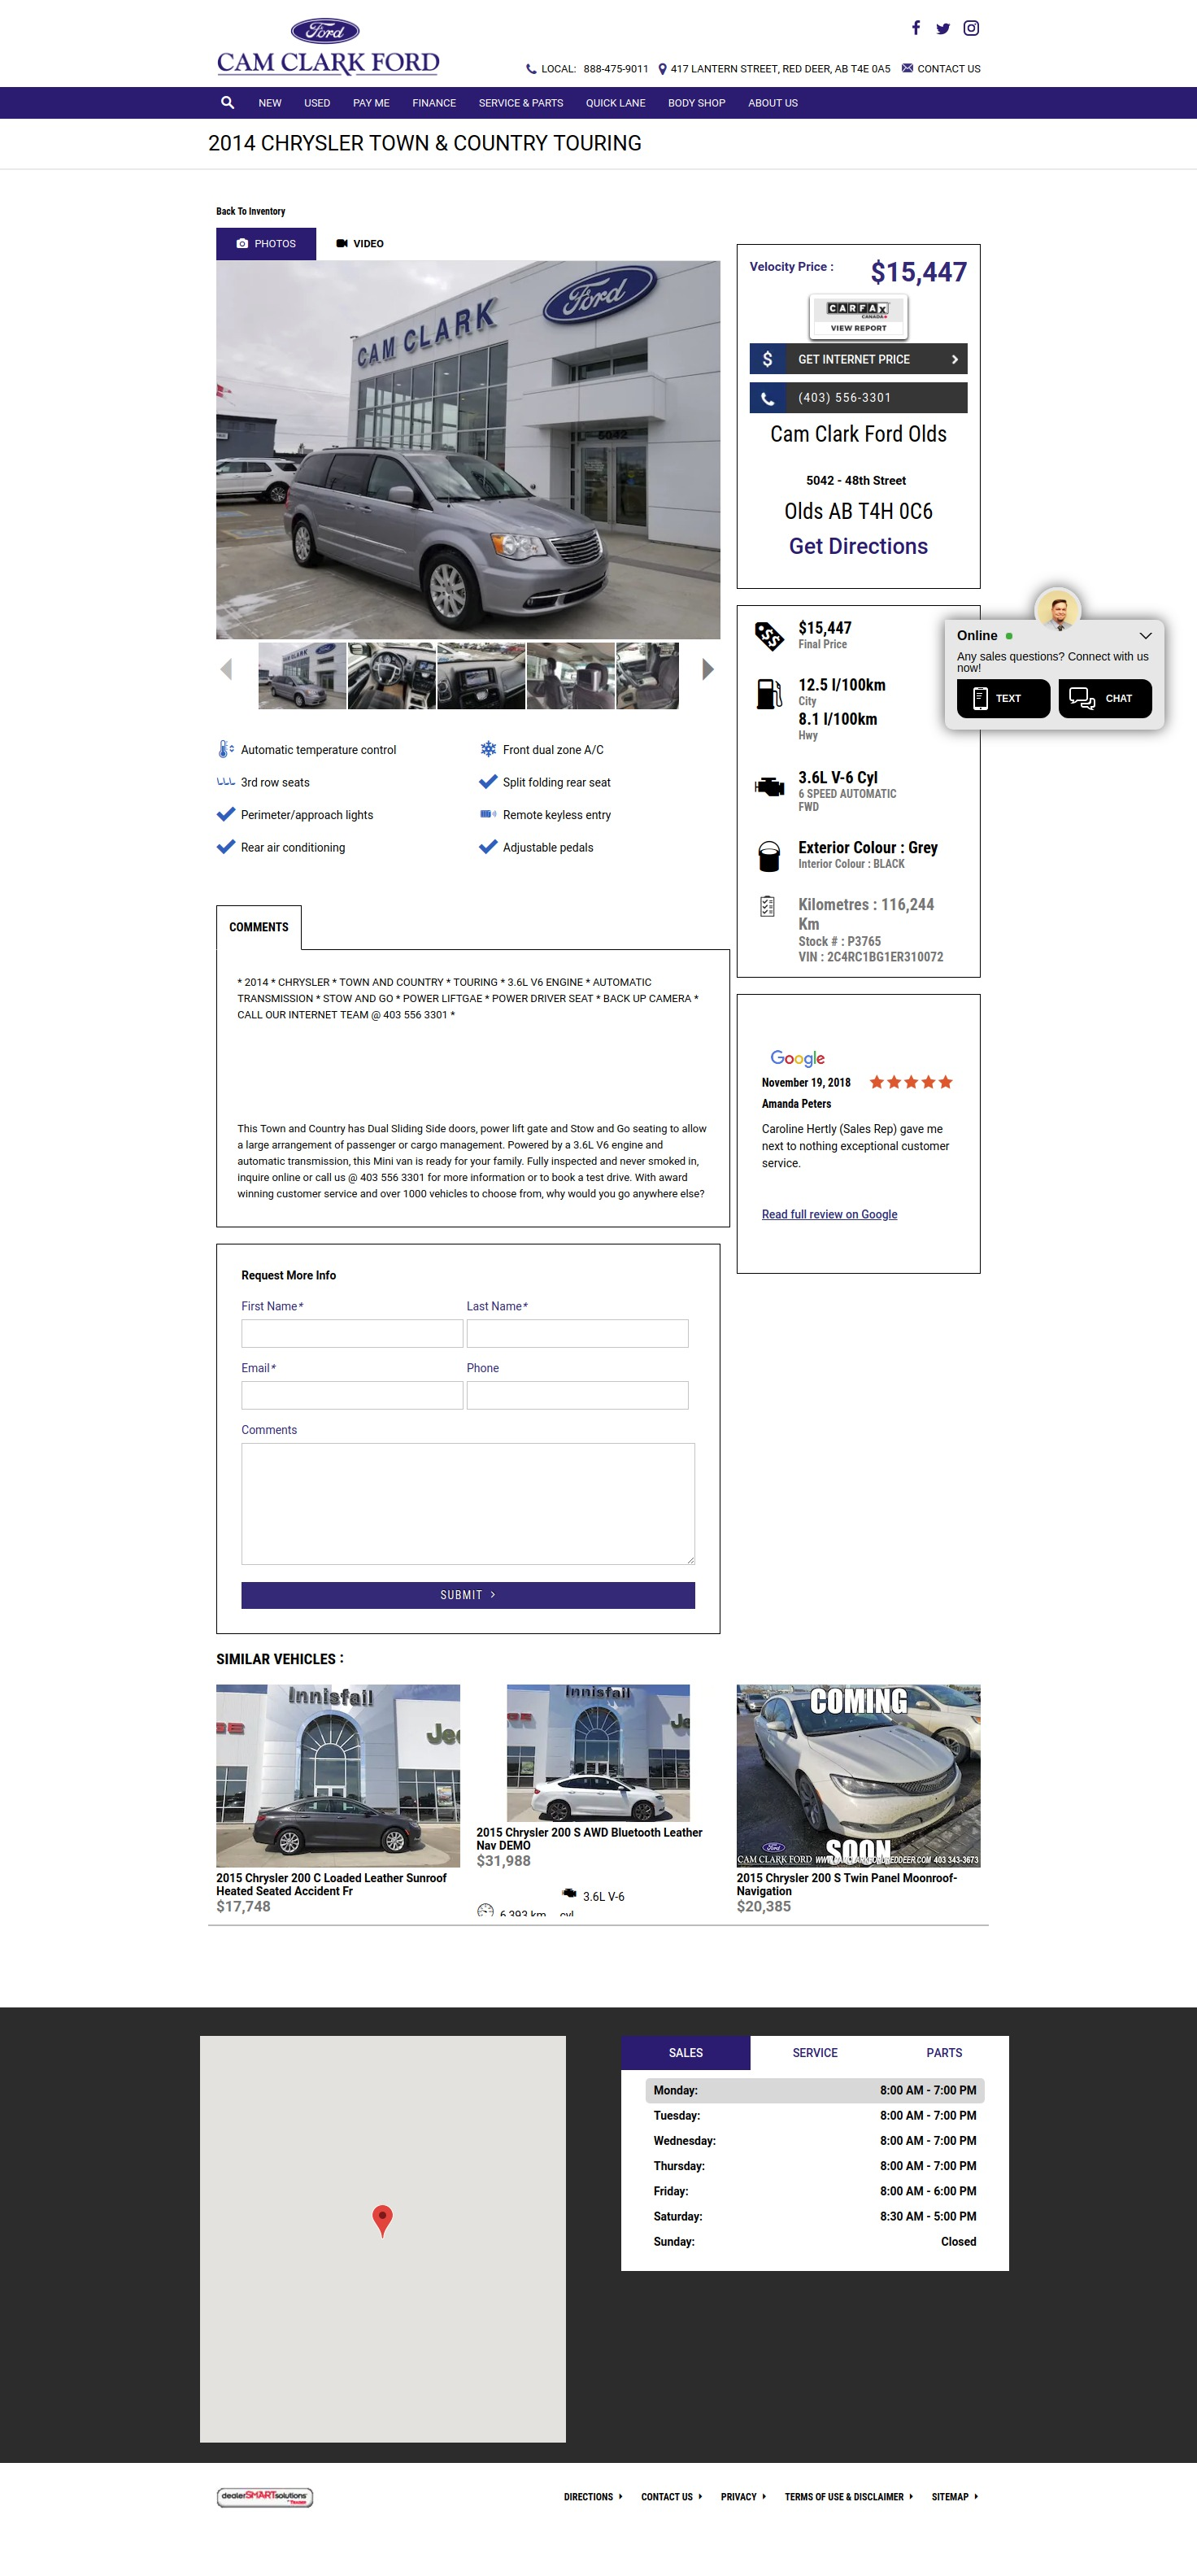car: (701, 657, 716, 683)
